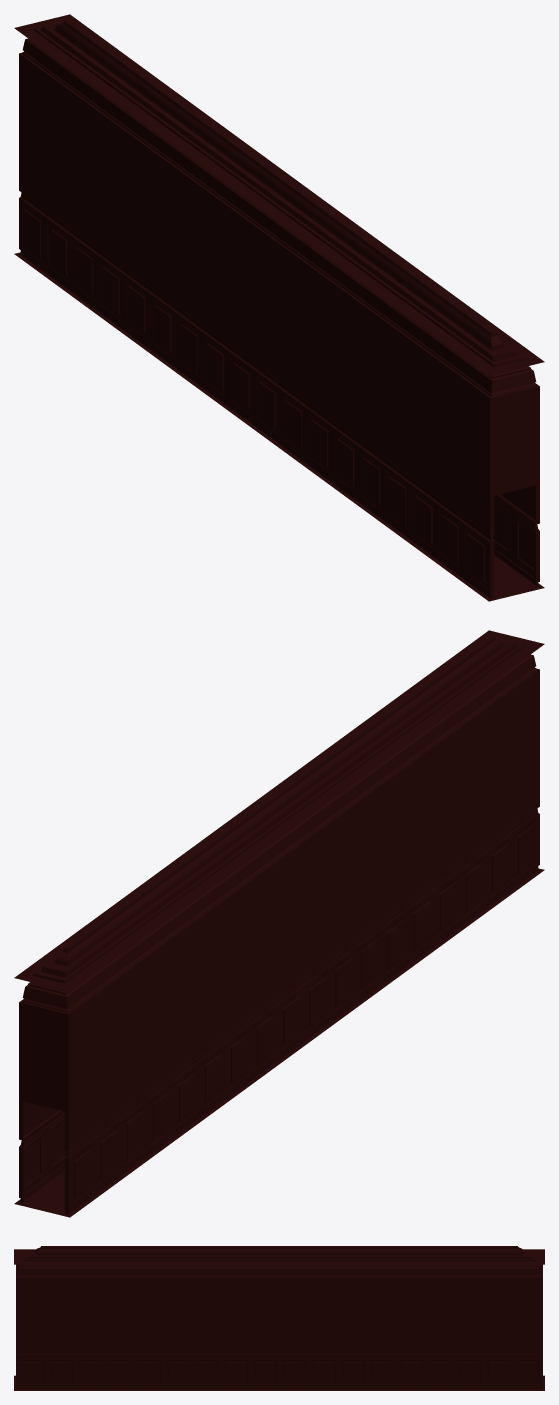
Rendered from 2door_13.FBX.
3 renders of one model, top to bottom at view 1: azimuth 30°, elevation 25°; view 2: azimuth 150°, elevation 25°; view 3: azimuth 270°, elevation 25°, orthographic. The views are drawn at different scales.
Parts seen in each view (by area): view 1: wall, ceiling, floor; view 2: wall, ceiling, floor; view 3: wall, ceiling, floor.
Part boxes in pixels (box(x1,y1,x2,y2)): wall: box(14, 14, 544, 601); ceiling: box(33, 20, 525, 367); floor: box(15, 252, 544, 601); wall: box(14, 630, 544, 1217); ceiling: box(33, 636, 525, 983); floor: box(14, 868, 544, 1217); wall: box(14, 1249, 544, 1389); ceiling: box(21, 1246, 537, 1261); floor: box(14, 1375, 544, 1390).
Bounding box in the file's own units: 45.97 × 675 × 192.
